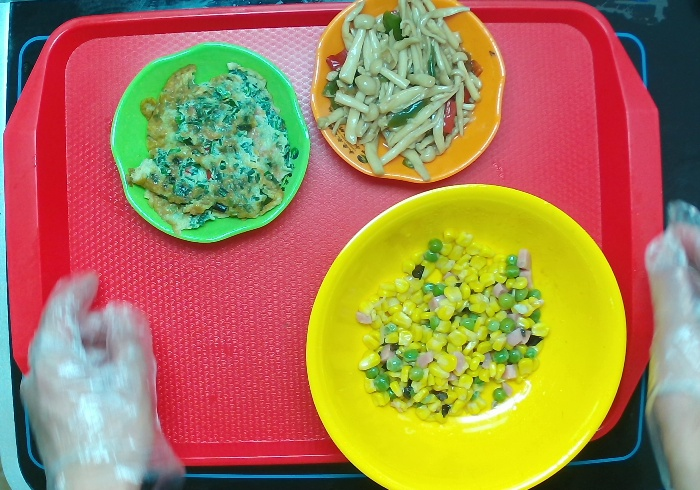YKMZ-Huang_Se_Tang_Wan: (304, 179, 629, 490)
YKMZ-Ju_Se_Ao_Bian_Wan: (310, 1, 508, 186)
YKMZ-Lv_Se_Ao_Bian_Wan: (108, 39, 312, 245)
